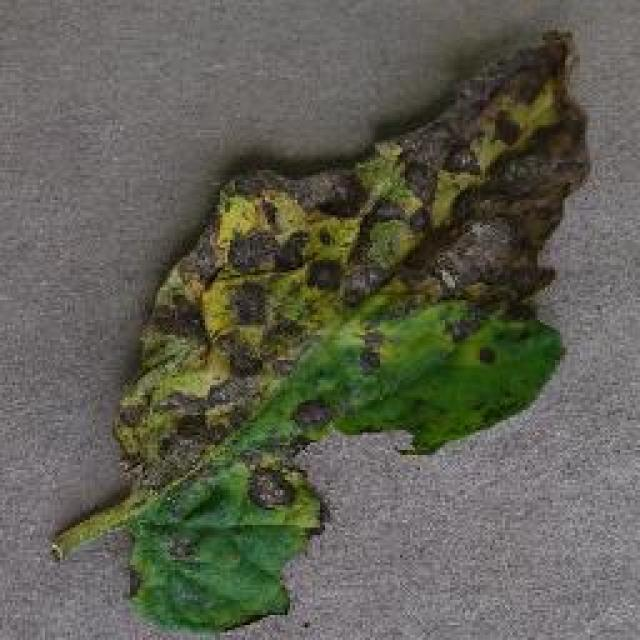Tomato Early blight leaf: (117, 29, 590, 634)
